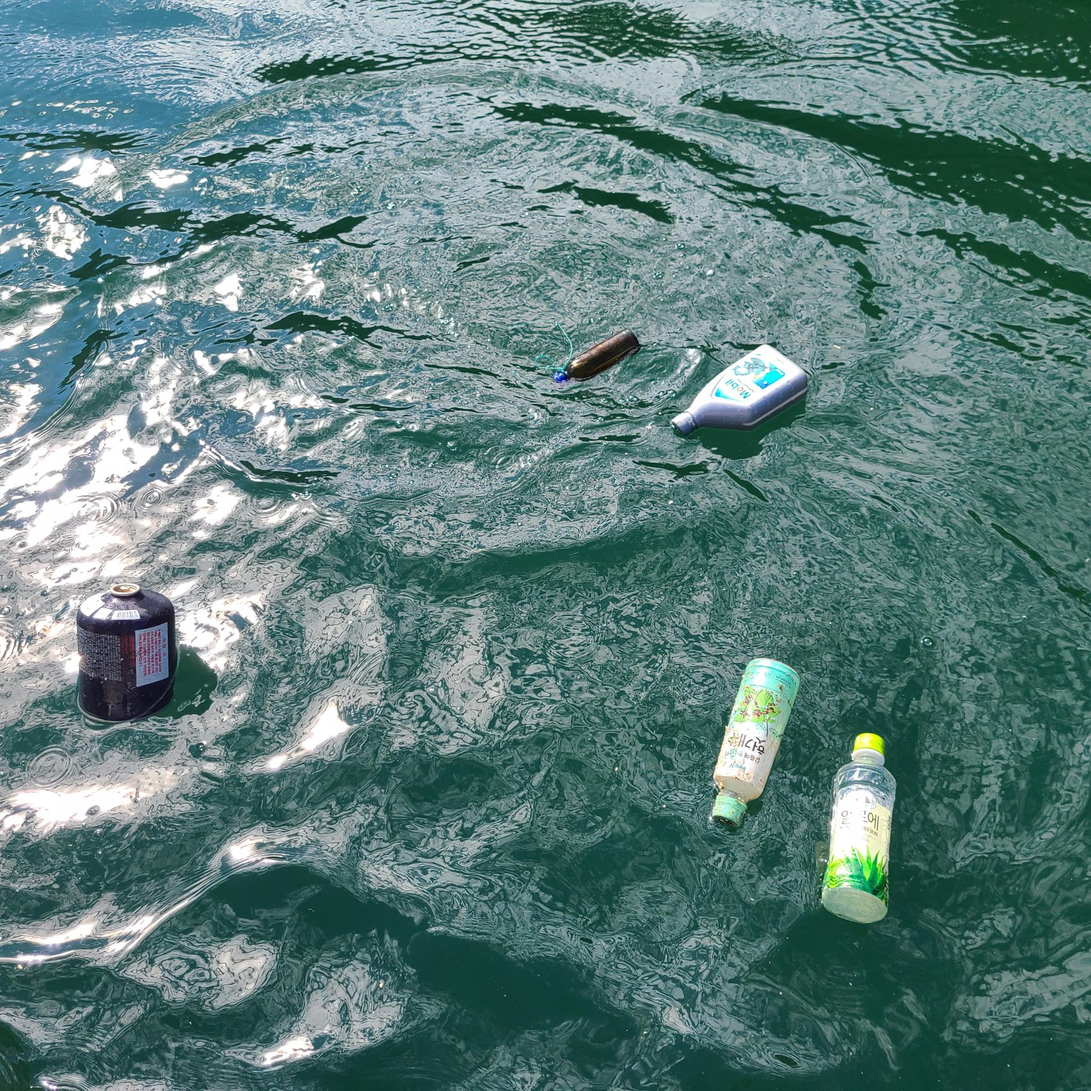sampah_terapung: (712, 658, 800, 827), (822, 734, 897, 924), (77, 583, 176, 724), (672, 344, 808, 436), (554, 329, 640, 384)
